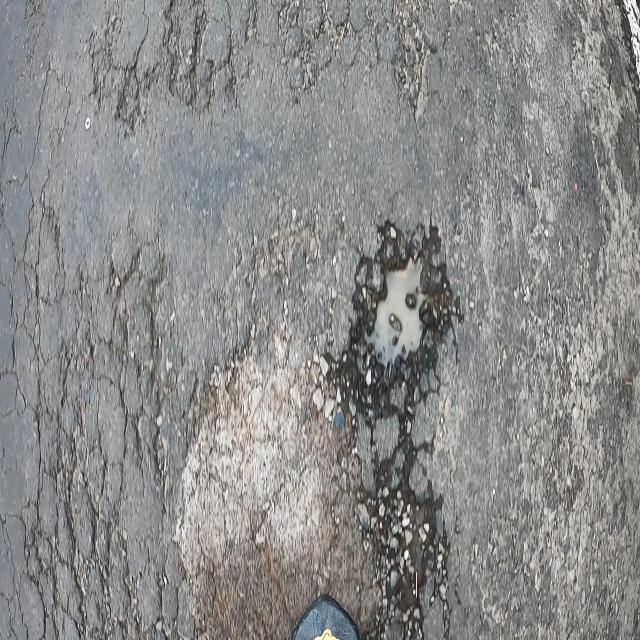Lubang: (331, 220, 464, 424), (375, 482, 436, 611)
